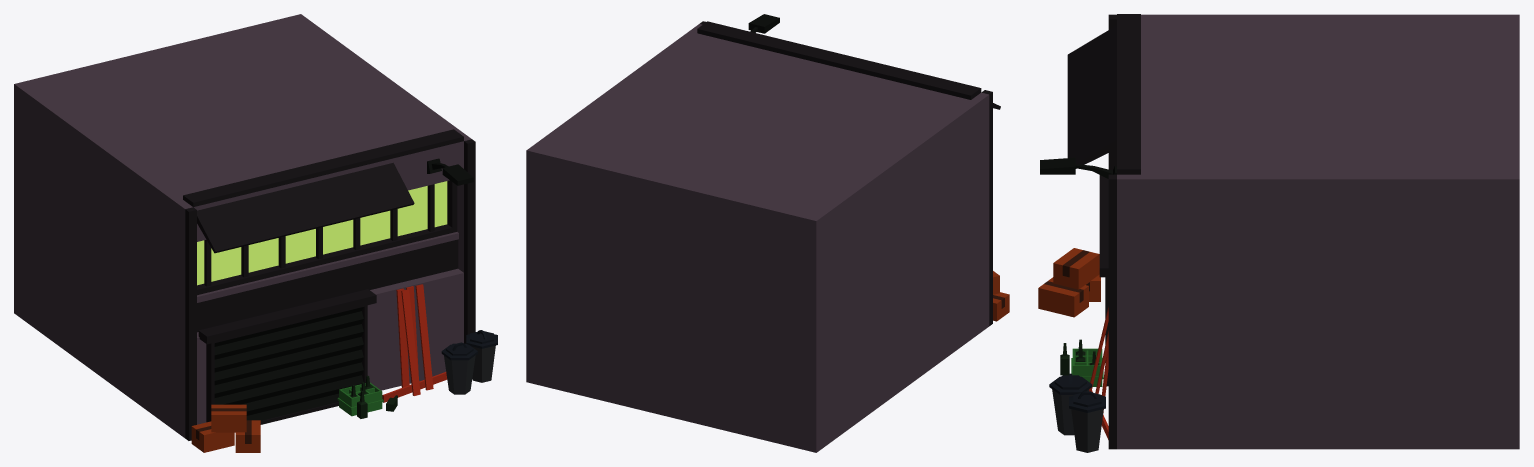
File: house_4.fbx
The picture shows the model from 3 angles, left to right: view 1: azimuth 30°, elevation 25°; view 2: azimuth 150°, elevation 25°; view 3: azimuth 270°, elevation 25°; orthographic projection. The views are drawn at different scales.
Visible parts, largest first — view 1: house_2; view 2: house_2; view 3: house_2.
Boxes of the visible parts, x1,y1,x2,y2 form: house_2: [14, 14, 497, 452]; house_2: [526, 14, 1009, 452]; house_2: [1038, 14, 1519, 452].
Bounding box in the file's own units: 757 × 563 × 892.
